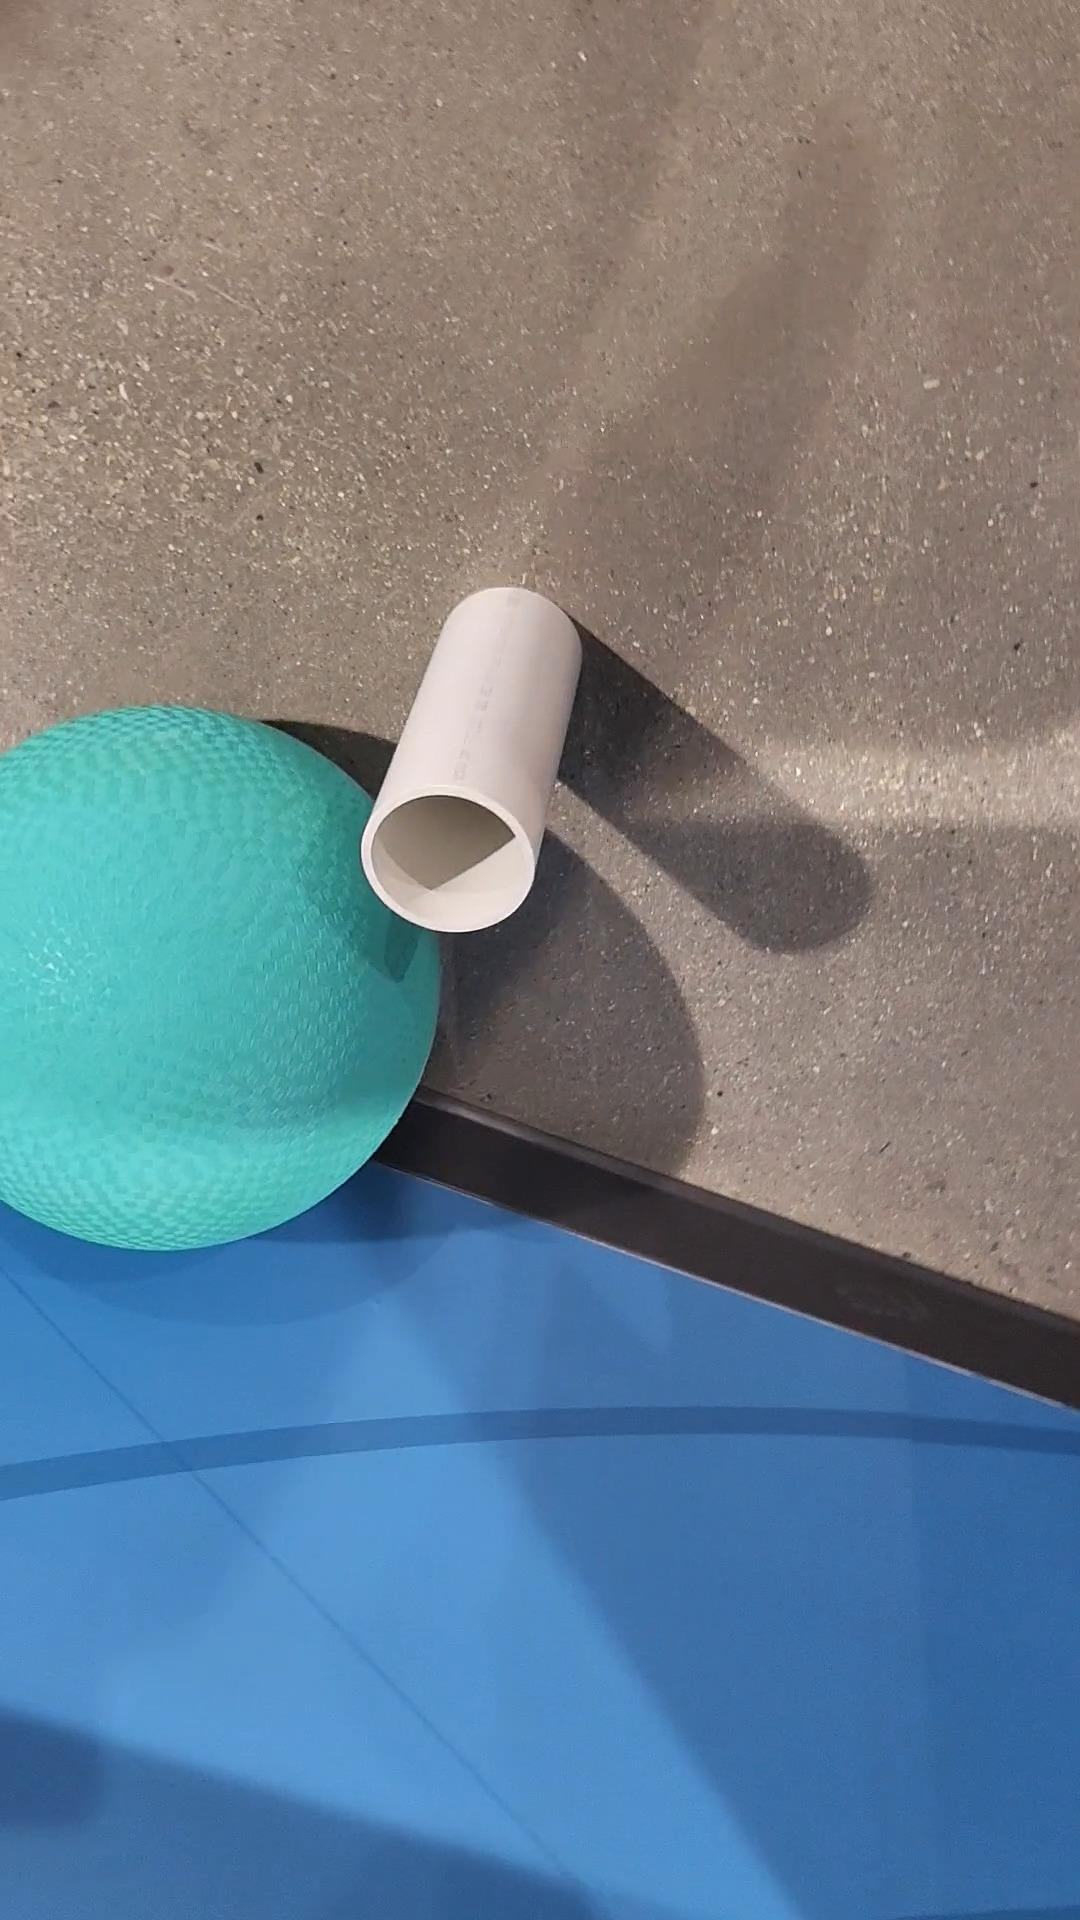algae: (0, 705, 443, 1245)
coral: (364, 587, 583, 934)
